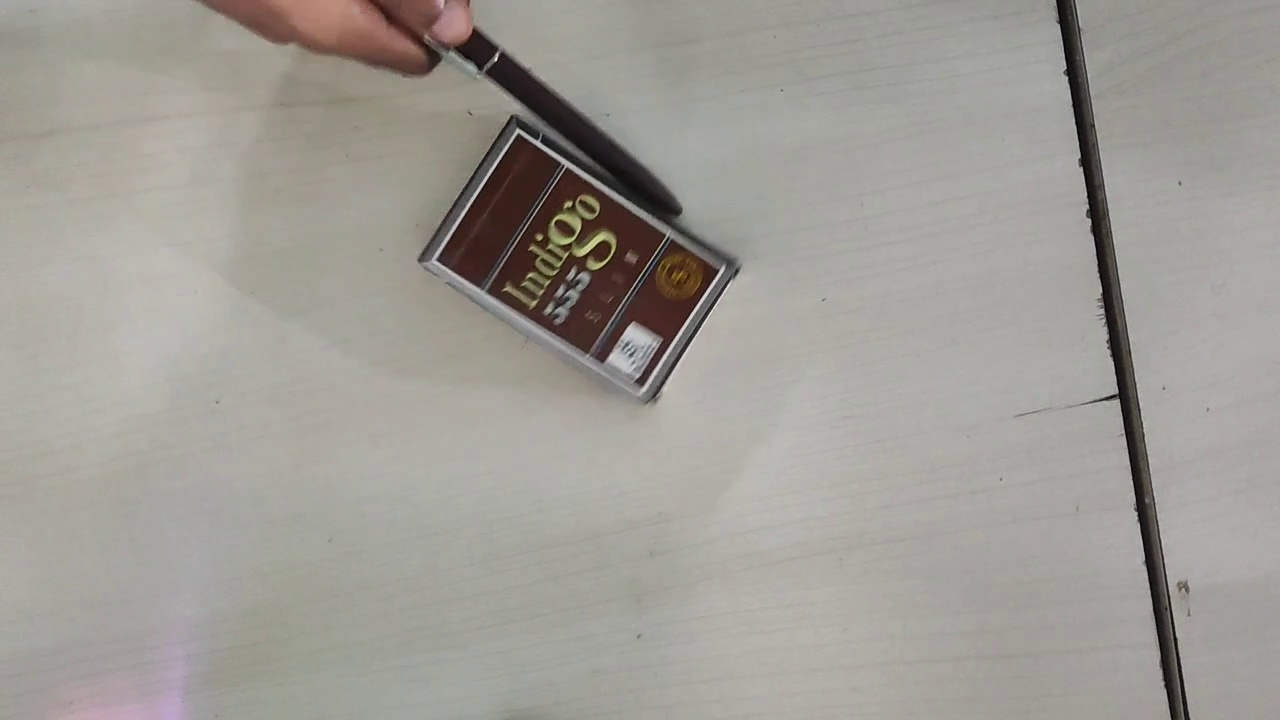BEX: (433, 127, 726, 394)
